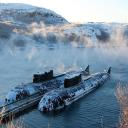submarine: (37, 65, 114, 115), (5, 64, 93, 106)
